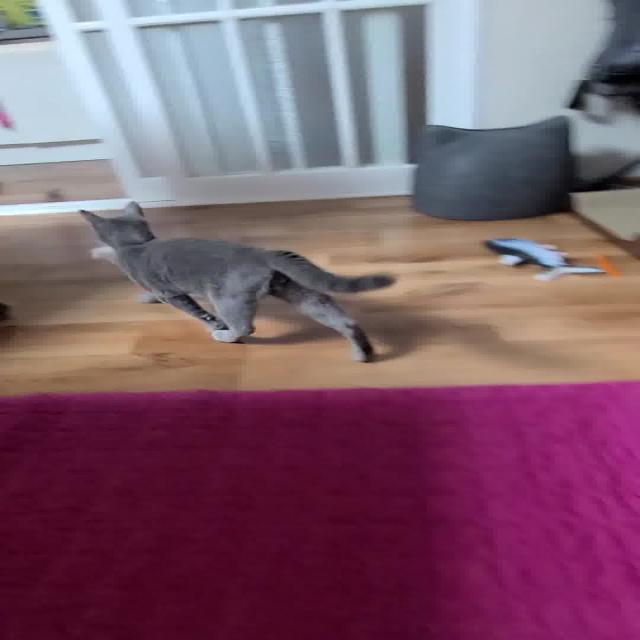cat: (51, 198, 434, 379)
